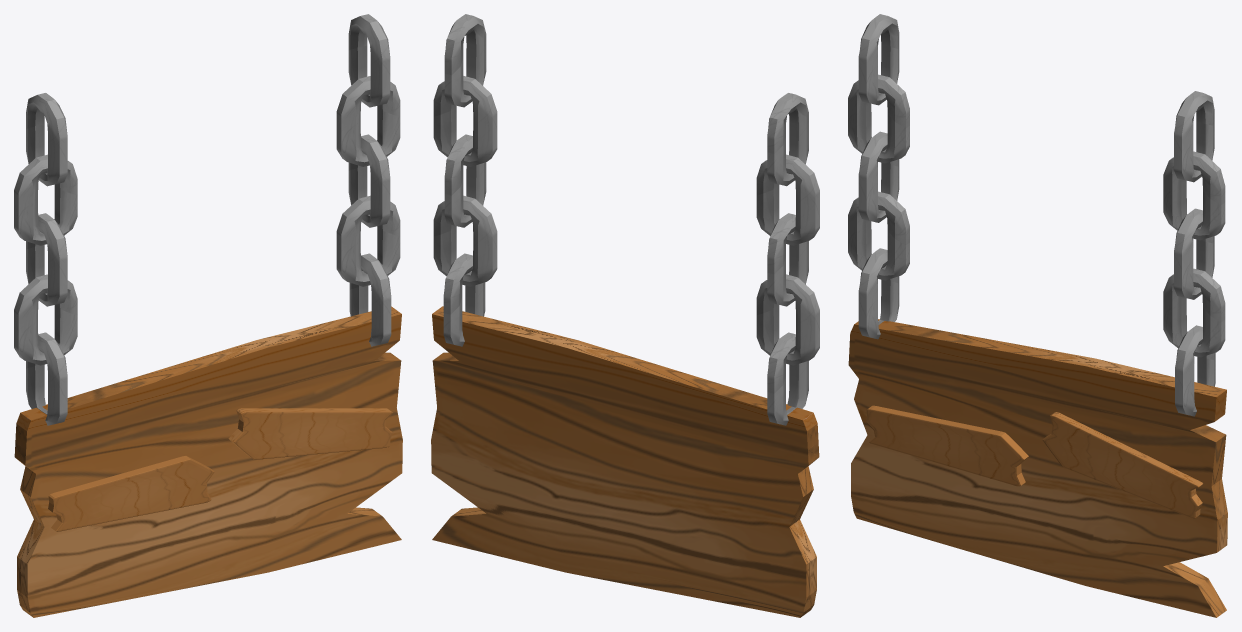
Rendered from Pause menu.fbx.
3 views of the same model, side by side, from view 1: azimuth 30°, elevation 25°; view 2: azimuth 150°, elevation 25°; view 3: azimuth 330°, elevation 25° (orthographic). The views are drawn at different scales.
Parts seen in each view (by area): view 1: Bord; view 2: Bord; view 3: Bord.
Boxes of the visible parts, x1=… form: Bord: x1=14, y1=14, x2=402, y2=617; Bord: x1=431, y1=14, x2=819, y2=617; Bord: x1=848, y1=14, x2=1227, y2=617.
Bounding box in the file's own units: 204 × 268 × 31.55.
